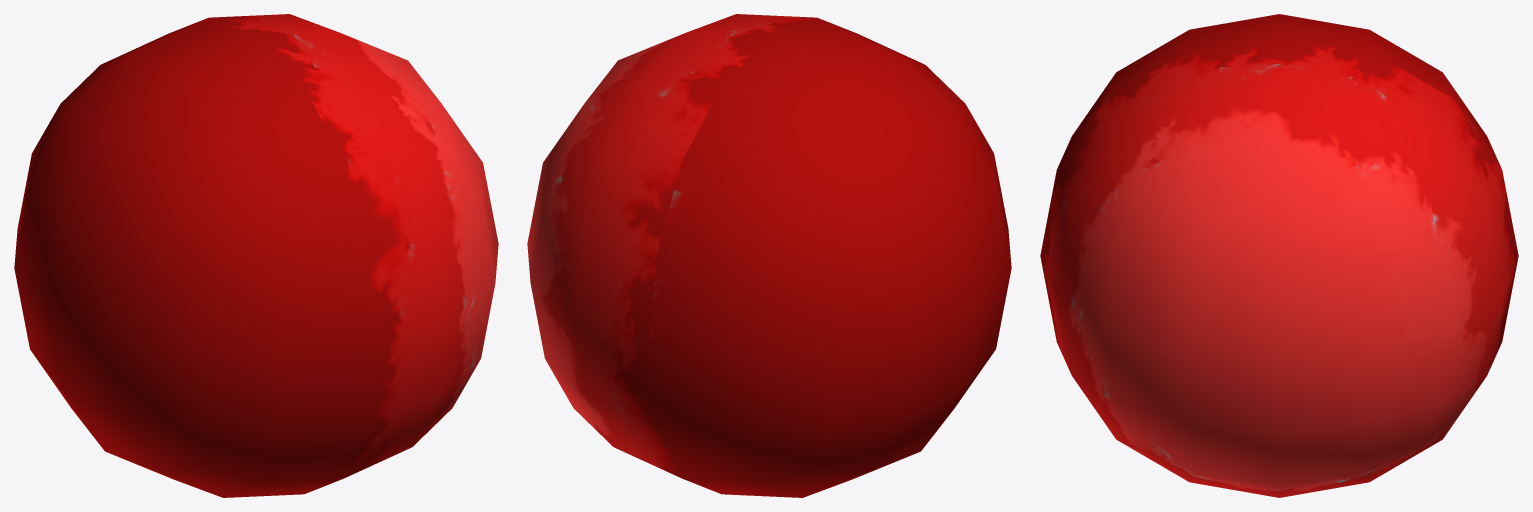
The model's file is PlayerBullet.obj.
The picture shows the model from 3 angles, left to right: view 1: azimuth 30°, elevation 25°; view 2: azimuth 150°, elevation 25°; view 3: azimuth 270°, elevation 25°; orthographic projection.
Visible parts, largest first — view 1: Cube; view 2: Cube; view 3: Cube.
Part boxes in pixels (x1=…): Cube: x1=14, y1=14, x2=498, y2=497; Cube: x1=527, y1=14, x2=1011, y2=497; Cube: x1=1040, y1=14, x2=1518, y2=497.
Size of the model in its own units: 1 by 1 by 1.
